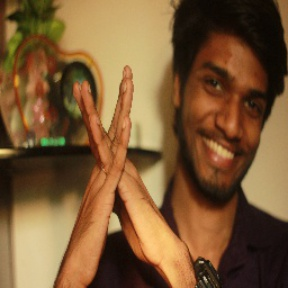W: (61, 60, 174, 272)
